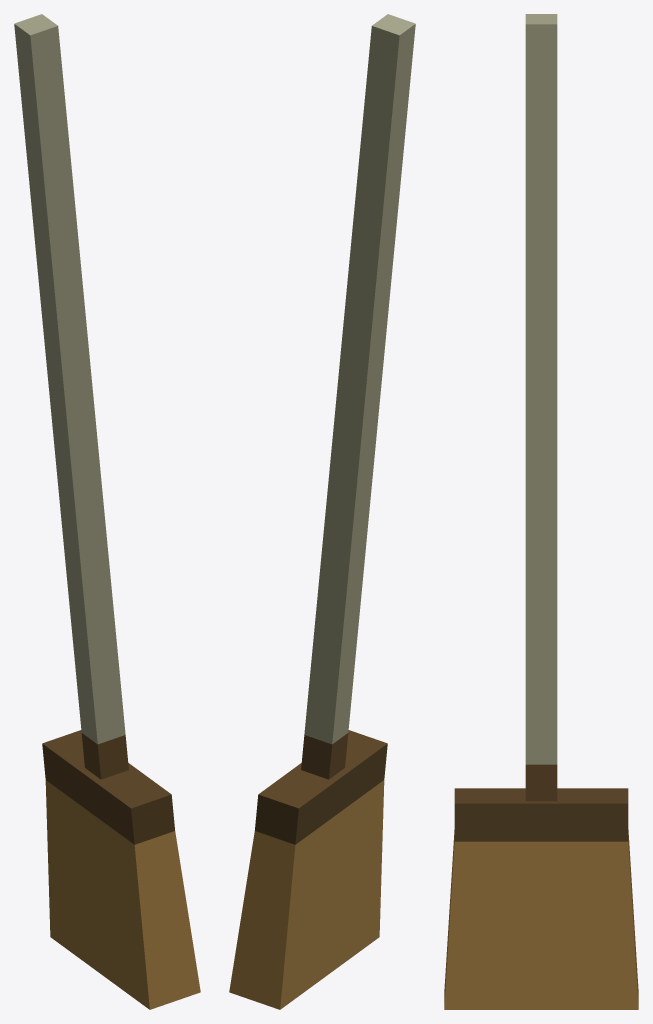
Rendered from SO_Broom.fbx.
3 renders of one model, left to right at view 1: azimuth 30°, elevation 25°; view 2: azimuth 150°, elevation 25°; view 3: azimuth 270°, elevation 25°, orthographic. The views are drawn at different scales.
Parts seen in each view (by area): view 1: SO_Broom; view 2: SO_Broom; view 3: SO_Broom.
Part boxes in pixels (bbox=[...]): SO_Broom: bbox=[14, 14, 200, 1009]; SO_Broom: bbox=[229, 14, 415, 1009]; SO_Broom: bbox=[444, 14, 638, 1009].
Size of the model in its own units: 0.3072 by 2.2 by 0.4111.
